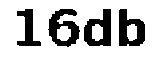1: (13, 5, 43, 52)
6: (45, 6, 80, 49)
b: (116, 4, 149, 53)
d: (80, 6, 112, 51)
